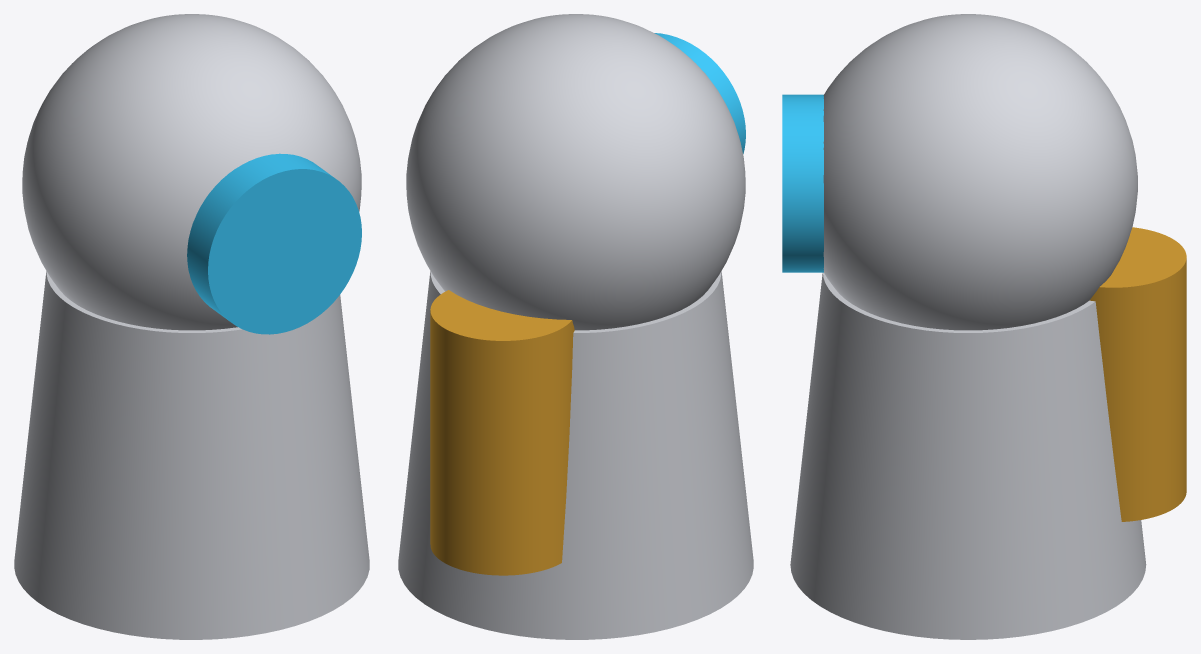
File: deepsea_diver.glb
The picture shows the model from 3 angles, left to right: view 1: azimuth 30°, elevation 25°; view 2: azimuth 150°, elevation 25°; view 3: azimuth 270°, elevation 25°; orthographic projection.
Parts seen in each view (by area): view 1: ColorPart_Suit, ColorPart_Helmet, VisorGlass; view 2: ColorPart_Helmet, ColorPart_Suit, AirTank, VisorGlass; view 3: ColorPart_Suit, ColorPart_Helmet, AirTank, VisorGlass.
Part boxes in pixels (box(x1,y1,x2,y2)): ColorPart_Suit: box(14, 271, 369, 639); ColorPart_Helmet: box(22, 14, 361, 330); VisorGlass: box(187, 153, 361, 334); ColorPart_Helmet: box(406, 14, 745, 330); ColorPart_Suit: box(398, 271, 753, 639); AirTank: box(430, 290, 574, 575); VisorGlass: box(654, 33, 745, 153); ColorPart_Suit: box(790, 272, 1146, 639); ColorPart_Helmet: box(823, 14, 1137, 330); AirTank: box(1089, 227, 1186, 521); VisorGlass: box(782, 94, 823, 272).
Bounding box in the file's own units: 0.44 × 0.73 × 0.5.
